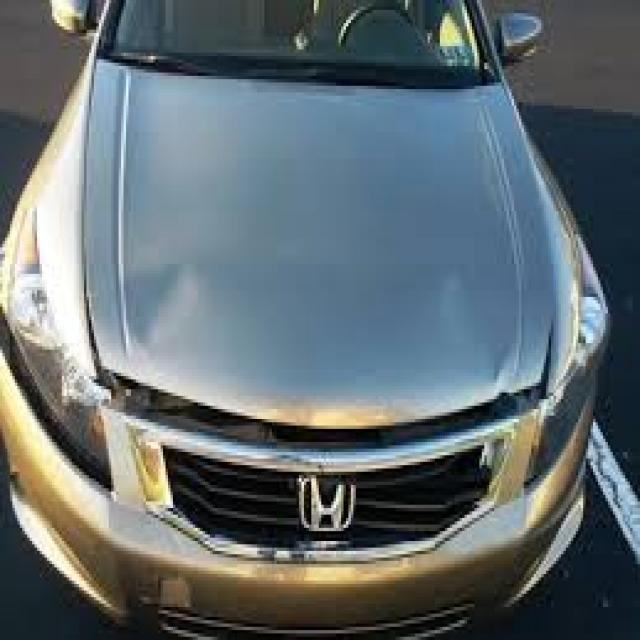minor: (4, 291, 601, 499)
